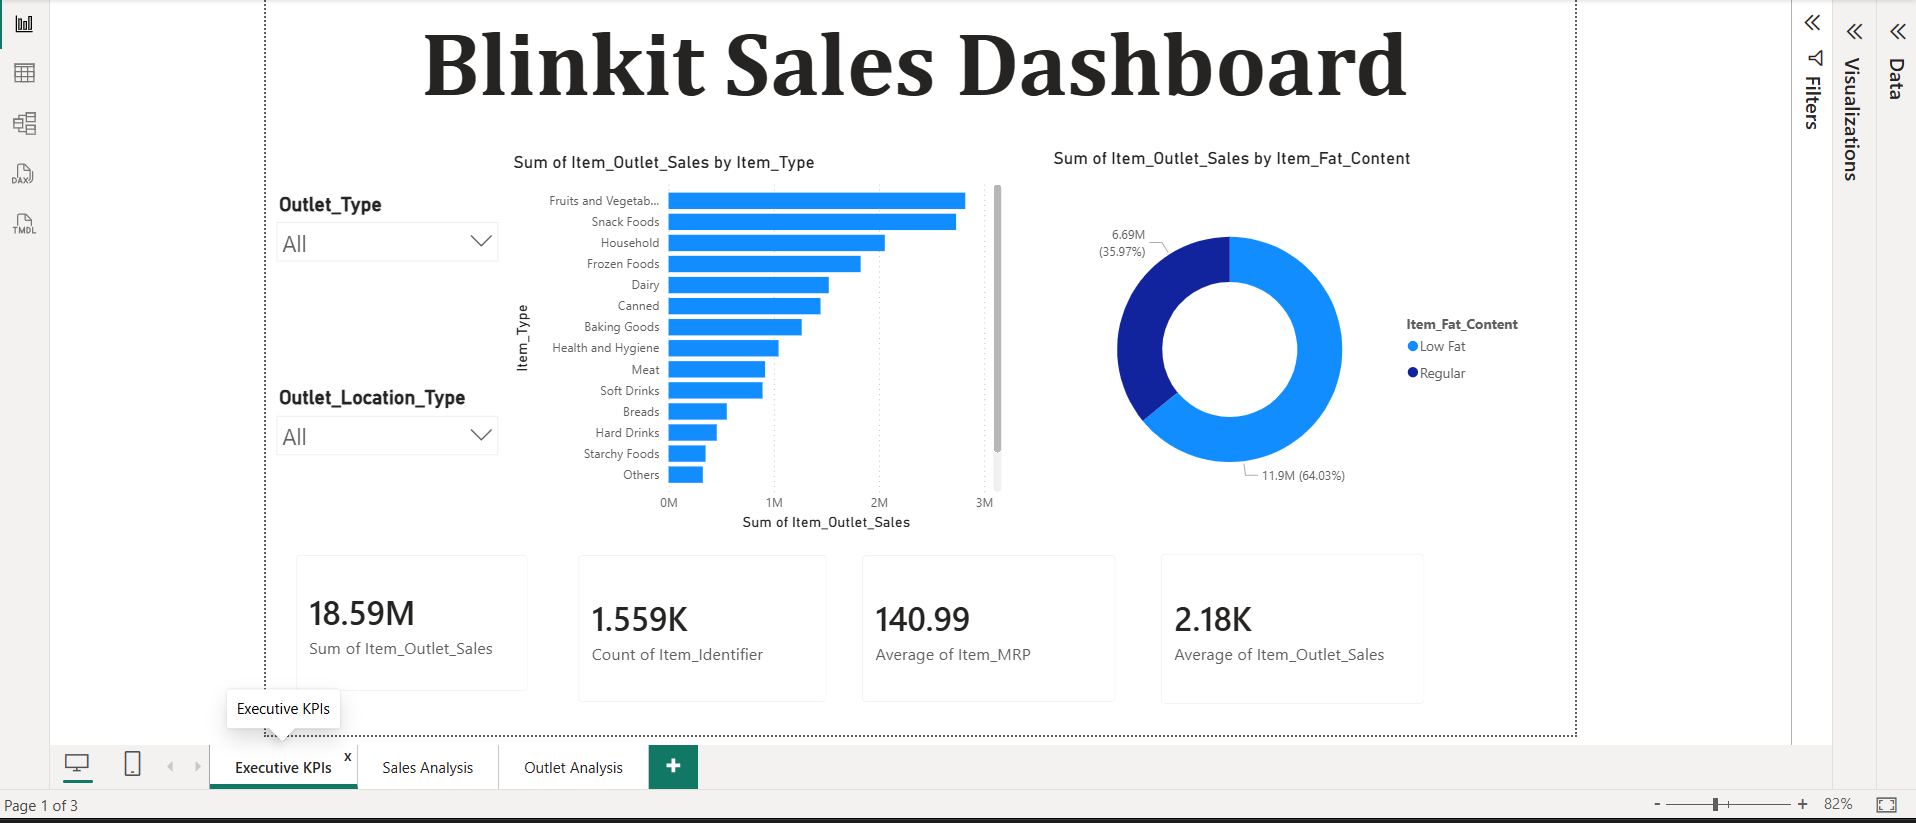

The page's visual inventory and layout, read from the dashboard file:
{"tool":"powerbi","page":{"name":"Executive KPIs","canvas":[1280,720],"ordinal":0},"visuals":[{"type":"cardVisual","fields":{"Data":["Sum(BLINKIT_CLEANED.Item_Outlet_Sales)"]},"box":[12.1,526.8,261.1,167.5],"z":0},{"type":"cardVisual","fields":{"Data":["Count(BLINKIT_CLEANED.Item_Identifier)"]},"box":[288.3,526.8,277.7,178.1],"z":1000},{"type":"cardVisual","fields":{"Data":["Avg(BLINKIT_CLEANED.Item_MRP)"]},"box":[566,526.8,282.3,178.1],"z":2000},{"type":"cardVisual","fields":{"Data":["Avg(BLINKIT_CLEANED.Item_Outlet_Sales)"]},"box":[858.9,525.3,292.8,181.1],"z":3000},{"type":"donutChart","fields":{"Category":["BLINKIT_CLEANED.Item_Fat_Content"],"Y":["Sum(BLINKIT_CLEANED.Item_Outlet_Sales)"]},"box":[765.3,144.9,480,375.8],"z":4000},{"type":"clusteredBarChart","fields":{"Category":["BLINKIT_CLEANED.Item_Type"],"Y":["Sum(BLINKIT_CLEANED.Item_Outlet_Sales)"]},"box":[237,149.4,487.5,375.8],"z":5000},{"type":"slicer","fields":{"Values":["BLINKIT_CLEANED.Outlet_Type"]},"box":[0,184.2,237,154],"z":6000},{"type":"slicer","fields":{"Values":["BLINKIT_CLEANED.Outlet_Location_Type"]},"box":[0,374.3,237,146.4],"z":7000},{"type":"textbox","box":[0,4.5,1269.4,123.8],"z":8000}]}

Visuals, with their boxes on the page's 1280x720 design canvas (x1, y1, x2, y2). These are canvas units, not pixel positions in the 1916x823 screenshot, which may show the page scaled, cropped or inside an application window:
cardVisual - Sum(BLINKIT_CLEANED.Item_Outlet_Sales): {"left": 12, "top": 527, "right": 273, "bottom": 694}
cardVisual - Count(BLINKIT_CLEANED.Item_Identifier): {"left": 288, "top": 527, "right": 566, "bottom": 705}
cardVisual - Avg(BLINKIT_CLEANED.Item_MRP): {"left": 566, "top": 527, "right": 848, "bottom": 705}
cardVisual - Avg(BLINKIT_CLEANED.Item_Outlet_Sales): {"left": 859, "top": 525, "right": 1152, "bottom": 706}
donutChart - BLINKIT_CLEANED.Item_Fat_Content x Sum(BLINKIT_CLEANED.Item_Outlet_Sales): {"left": 765, "top": 145, "right": 1245, "bottom": 521}
clusteredBarChart - BLINKIT_CLEANED.Item_Type x Sum(BLINKIT_CLEANED.Item_Outlet_Sales): {"left": 237, "top": 149, "right": 724, "bottom": 525}
slicer - BLINKIT_CLEANED.Outlet_Type: {"left": 0, "top": 184, "right": 237, "bottom": 338}
slicer - BLINKIT_CLEANED.Outlet_Location_Type: {"left": 0, "top": 374, "right": 237, "bottom": 521}
textbox: {"left": 0, "top": 4, "right": 1269, "bottom": 128}
